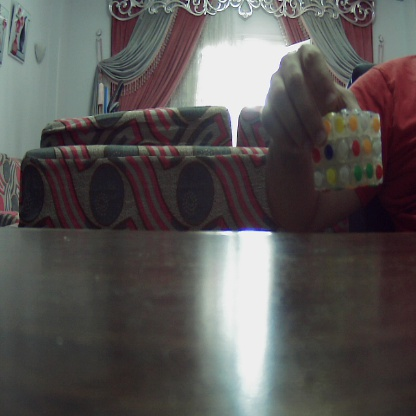Rubix Cube: (313, 111, 383, 188)
